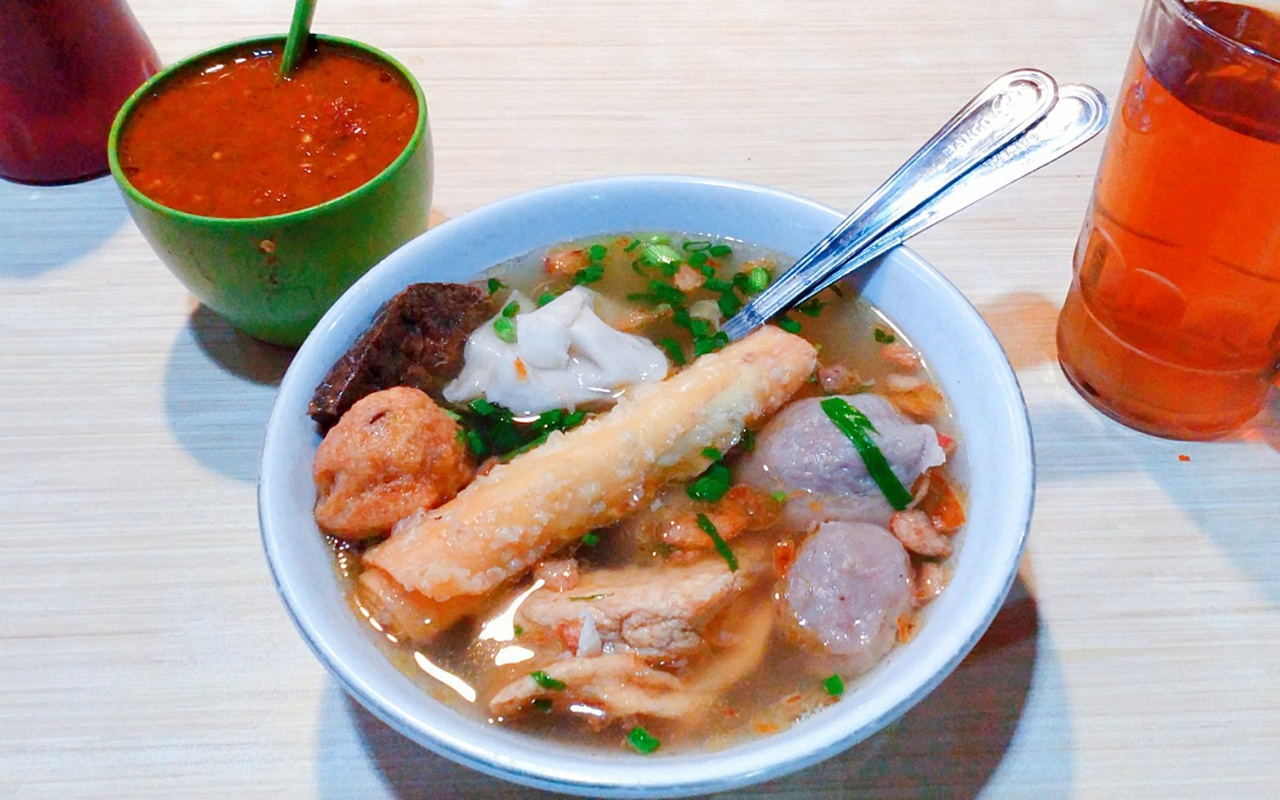bakso_malang: (313, 230, 964, 759)
